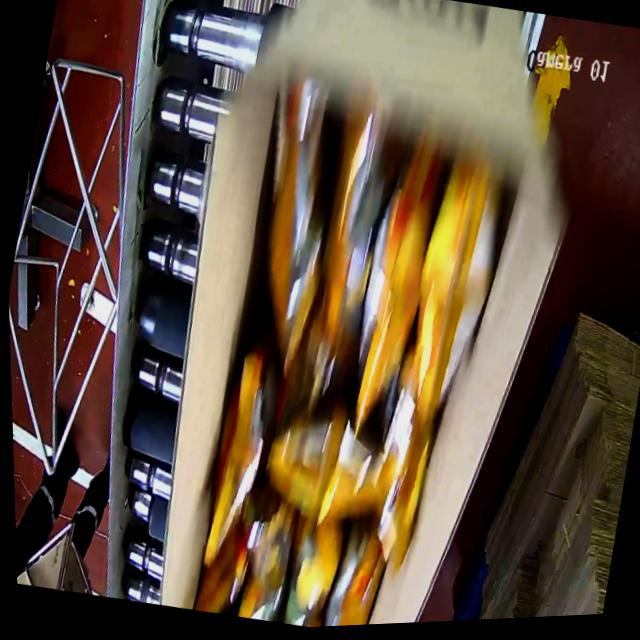FRENCH_CHEESE: (170, 98, 530, 633)
